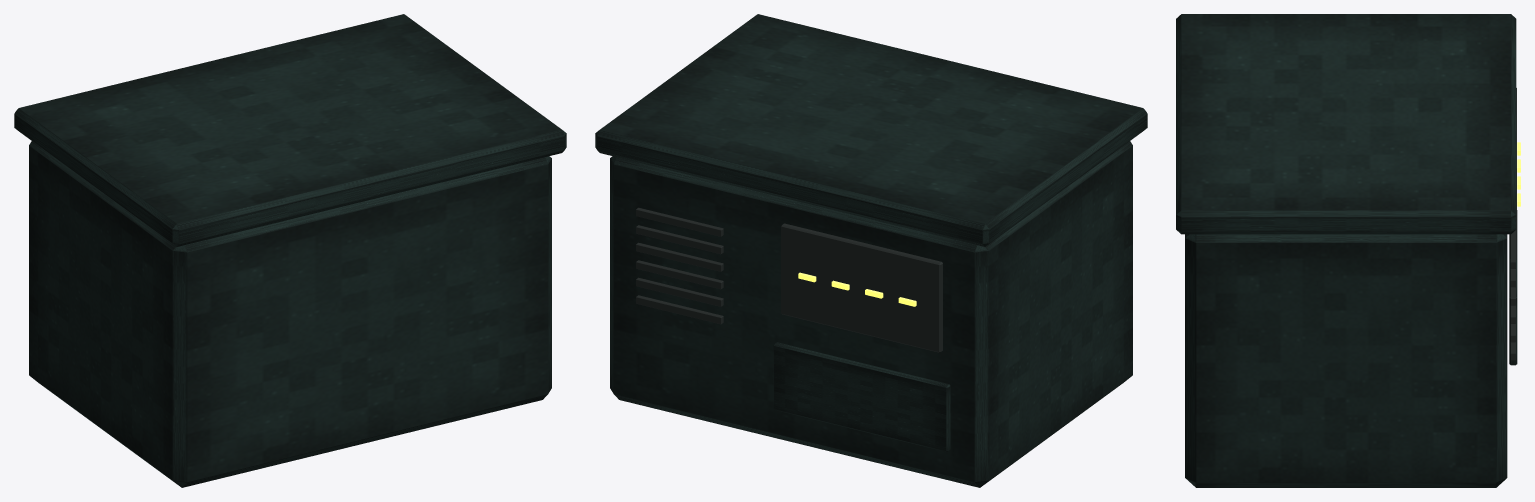
Rendered from THStage_Bay_06_ServiceConsole.fbx.
3 views of the same model, side by side, from view 1: azimuth 30°, elevation 25°; view 2: azimuth 150°, elevation 25°; view 3: azimuth 270°, elevation 25° (orthographic). The views are drawn at different scales.
Parts seen in each view (by area): view 1: THStage_Bay_06_ServiceConsole; view 2: THStage_Bay_06_ServiceConsole; view 3: THStage_Bay_06_ServiceConsole.
Part boxes in pixels (box(x1,y1,x2,y2)): THStage_Bay_06_ServiceConsole: box(14, 14, 566, 487); THStage_Bay_06_ServiceConsole: box(595, 14, 1147, 487); THStage_Bay_06_ServiceConsole: box(1176, 14, 1520, 487).
Size of the model in its own units: 1.06 by 0.7 by 0.77.
Materials: 3 (1 with a texture image).
